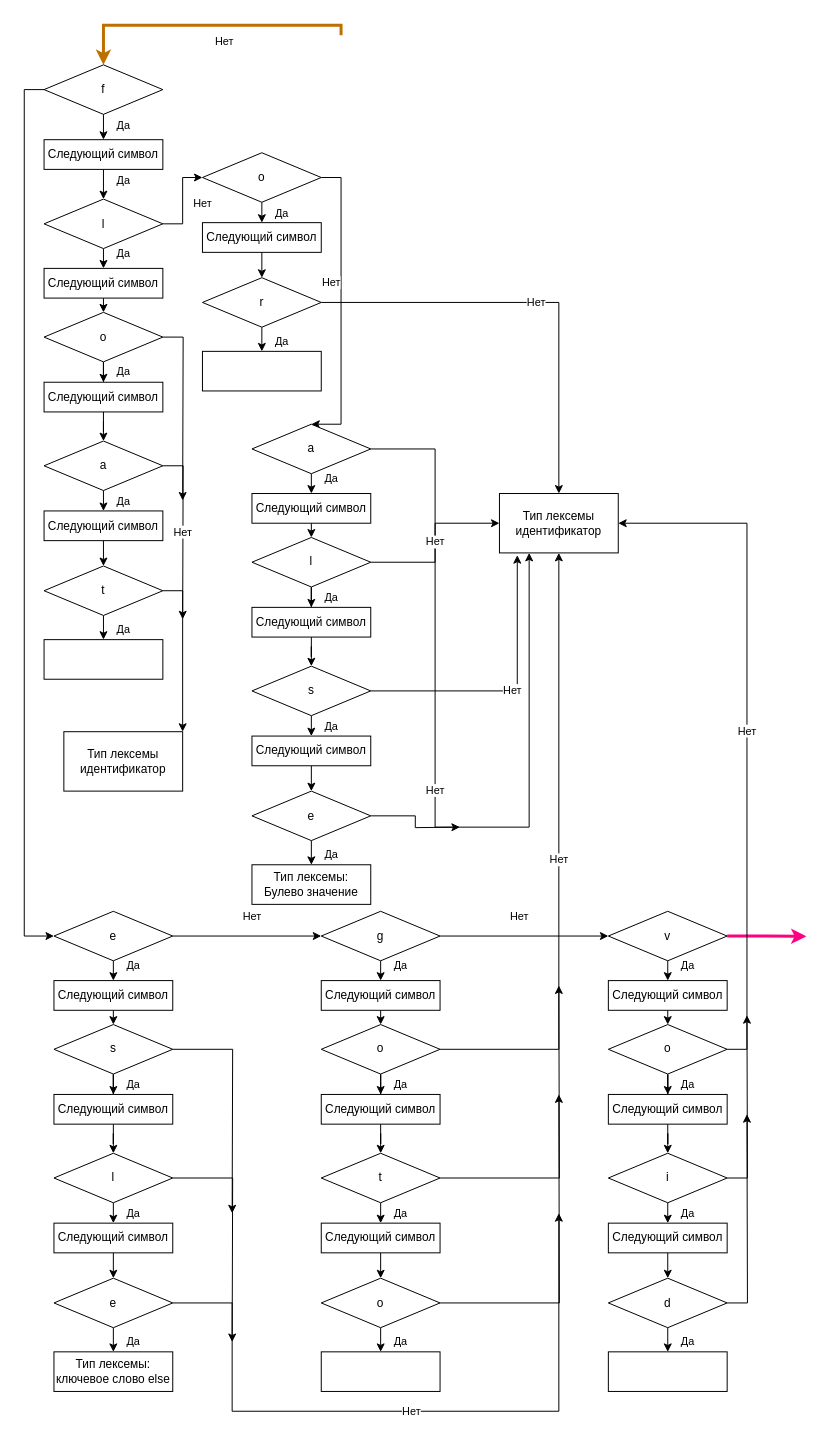
This 833x1436 diagram has some shape labels left out. Each missing label, with the box of its shape:
Тип лексемы: Зарезервированное имя float: (43, 639, 163, 679)
Тип лексемы: ключевое слово for: (201, 350, 321, 391)
Тип лексемы: ключевое слово goto: (320, 1351, 440, 1391)
Тип лексемы: ключевое слово void: (607, 1351, 727, 1391)
